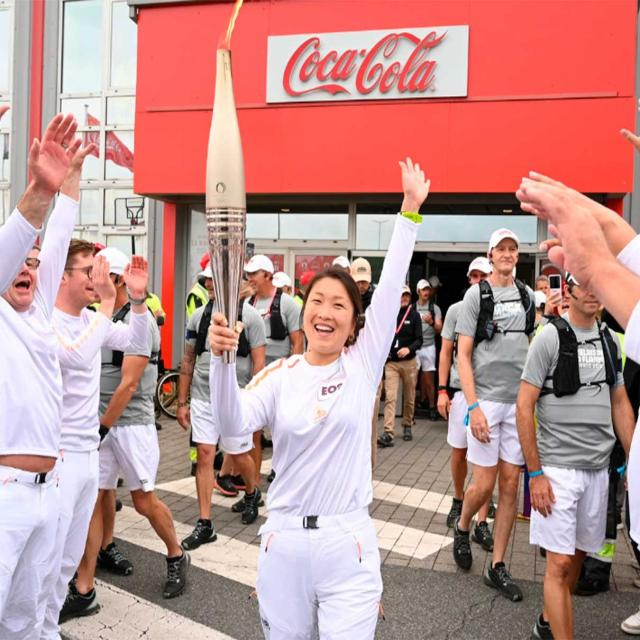coca cola: (274, 29, 449, 104)
